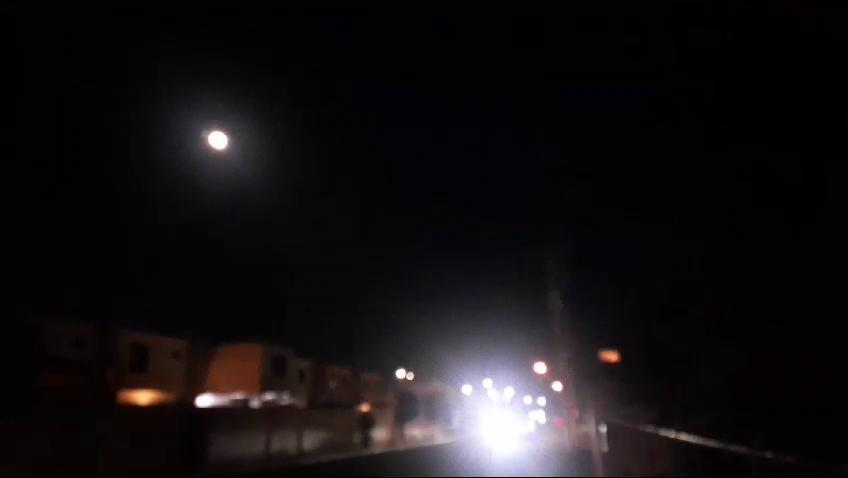moon: (213, 132, 238, 156)
